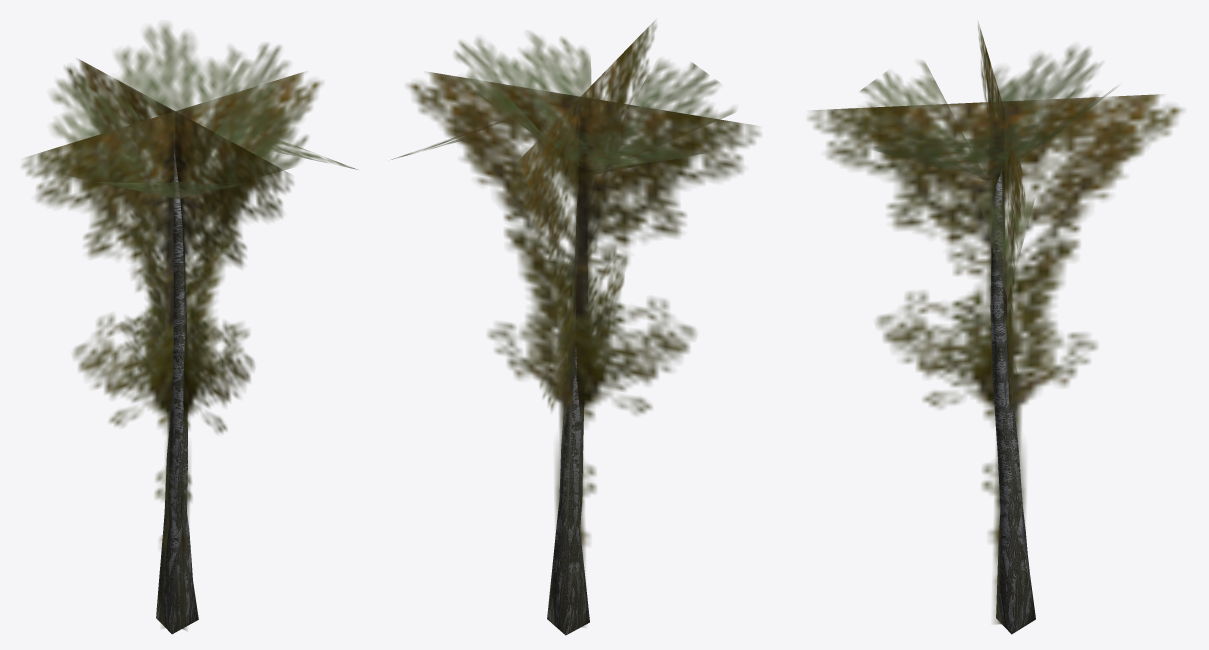
Rendered from bosque_abedul.glb.
The picture shows the model from 3 angles, left to right: view 1: azimuth 30°, elevation 25°; view 2: azimuth 150°, elevation 25°; view 3: azimuth 270°, elevation 25°; orthographic projection.
Parts seen in each view (by area): view 1: bosque_abedul.glb; view 2: bosque_abedul.glb; view 3: bosque_abedul.glb.
Part boxes in pixels (left/top/right/bottom): bosque_abedul.glb: left=22, top=23, right=357, bottom=634; bosque_abedul.glb: left=391, top=20, right=760, bottom=635; bosque_abedul.glb: left=808, top=22, right=1183, bottom=634.
Size of the model in its own units: 11.2 by 16.84 by 10.64.
Materials: 2 (2 with a texture image).
